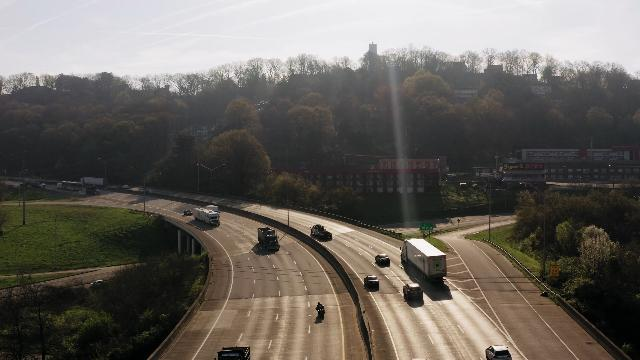bus: (61, 180, 83, 190)
car: (484, 344, 514, 360), (402, 284, 426, 304), (364, 273, 381, 292), (374, 252, 393, 268), (184, 209, 193, 216), (122, 185, 130, 188)
motorcycle: (315, 302, 325, 317)
pickup-truck: (310, 224, 324, 235), (138, 187, 149, 192)
truck: (397, 237, 448, 283), (256, 226, 282, 254), (202, 209, 220, 226), (79, 177, 108, 186), (24, 179, 45, 188), (85, 186, 101, 195)
